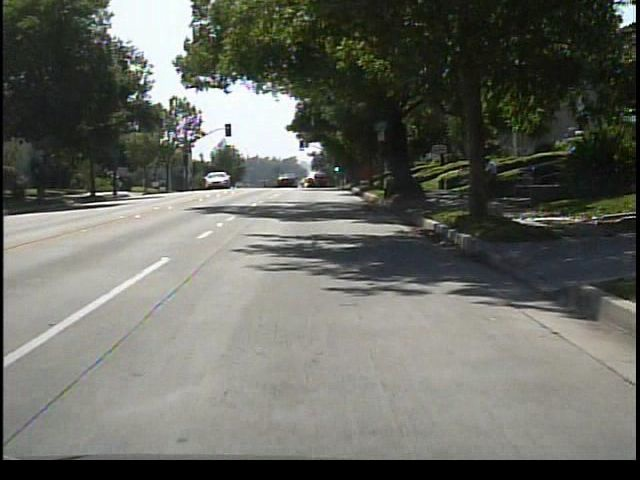person: (477, 153, 503, 199)
